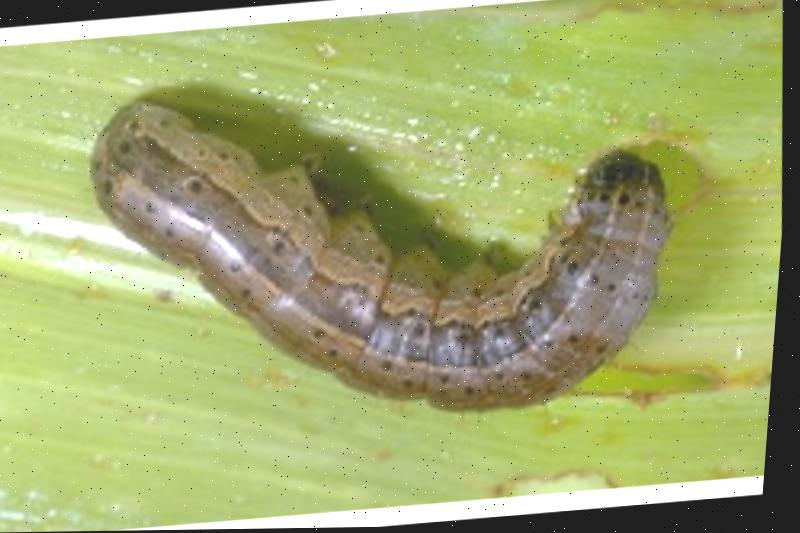fall-armyworm: (92, 104, 680, 420)
